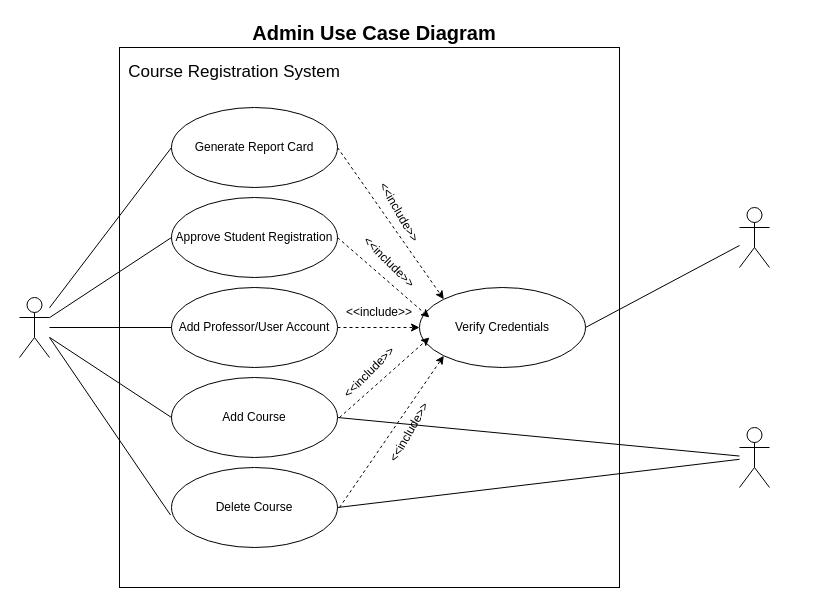
Image size: 813x605. Some labels were removed from this diagram. The box of each missing label's shape, as (x1, y1, x2, y2) in pixels:
Admin: (18, 296, 50, 358)
Course Catalog: (738, 426, 770, 488)
Credentials Database: (738, 206, 770, 268)
